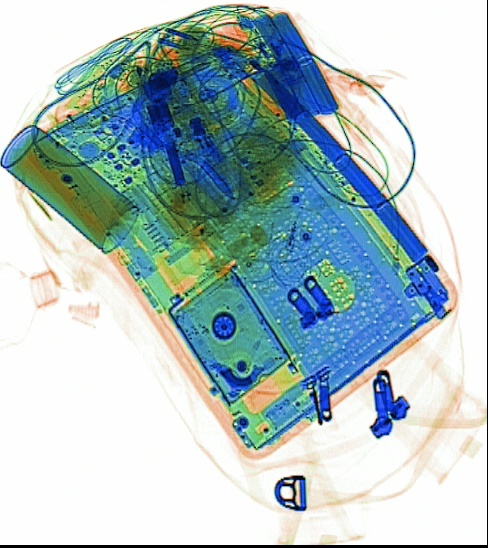powerbank: (242, 8, 338, 120)
